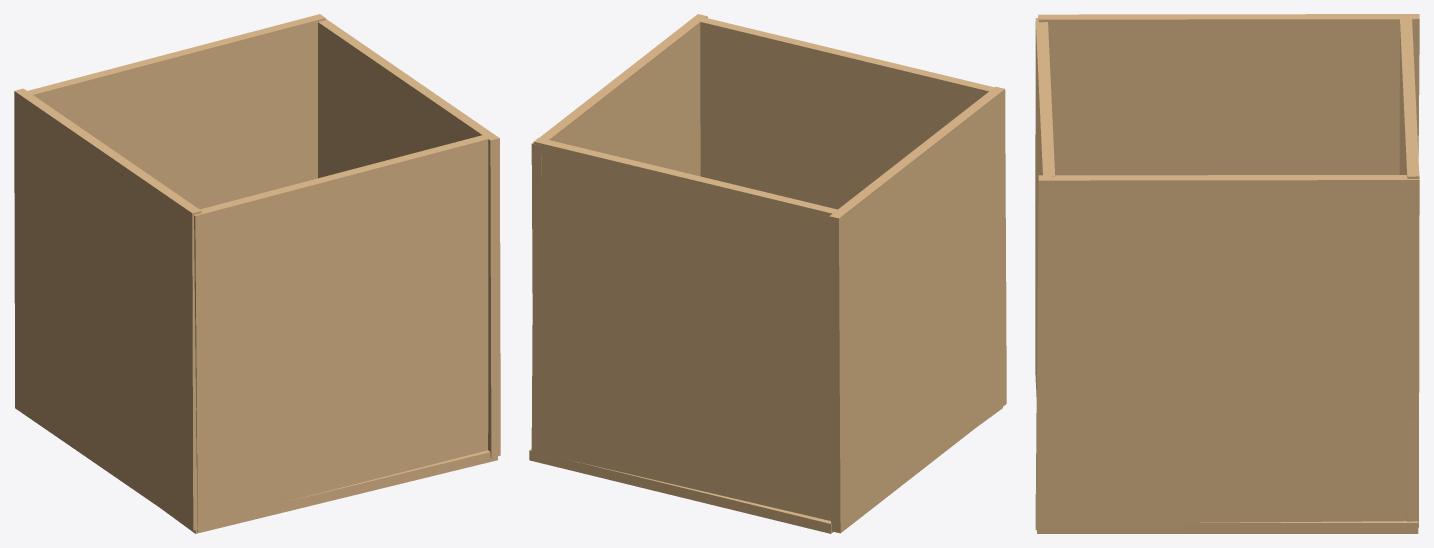
Rendered from testroom.glb.
3 renders of one model, left to right at view 1: azimuth 30°, elevation 25°; view 2: azimuth 150°, elevation 25°; view 3: azimuth 270°, elevation 25°, orthographic. The views are drawn at different scales.
Visible parts, largest first — view 1: Cube.003, Cube.001, Cube.004, Cube.002, Cube; view 2: Cube.004, Cube.001, Cube.003, Cube.002, Cube; view 3: Cube.002, Cube.001, Cube.004, Cube, Cube.003.
Boxes of the visible parts, x1,y1,x2,y2 form: Cube.003: [194, 134, 489, 531]; Cube.001: [14, 88, 201, 530]; Cube.004: [28, 14, 325, 209]; Cube.002: [318, 19, 500, 457]; Cube: [165, 450, 497, 533]; Cube.004: [531, 137, 837, 520]; Cube.001: [829, 86, 1006, 533]; Cube.003: [698, 17, 993, 209]; Cube.002: [531, 14, 707, 292]; Cube: [529, 407, 1002, 533]; Cube.002: [1035, 175, 1419, 530]; Cube.001: [1038, 14, 1419, 175]; Cube.004: [1399, 19, 1419, 527]; Cube: [1037, 521, 1418, 533]; Cube.003: [1035, 18, 1055, 396].
Bounding box in the file's own units: 13.18 × 12.88 × 12.66.
